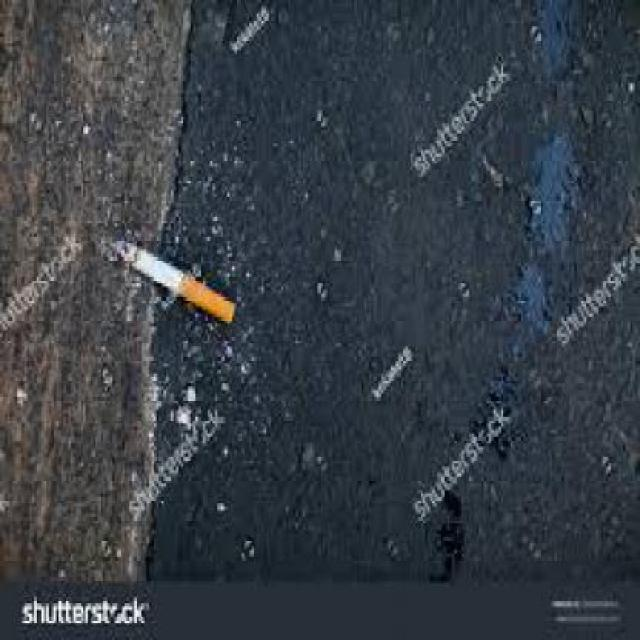cigarette: (110, 220, 242, 343)
